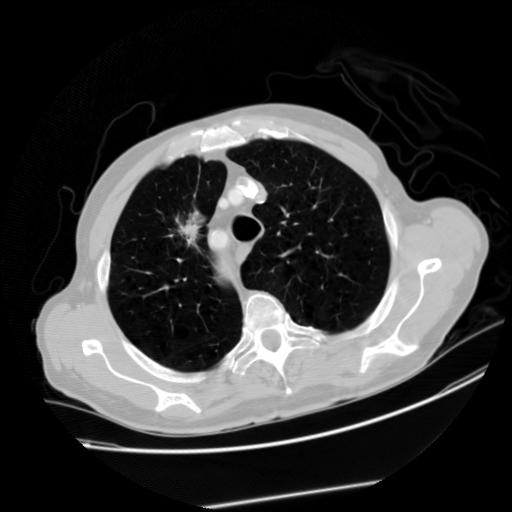nodule: (172, 209, 211, 248)
